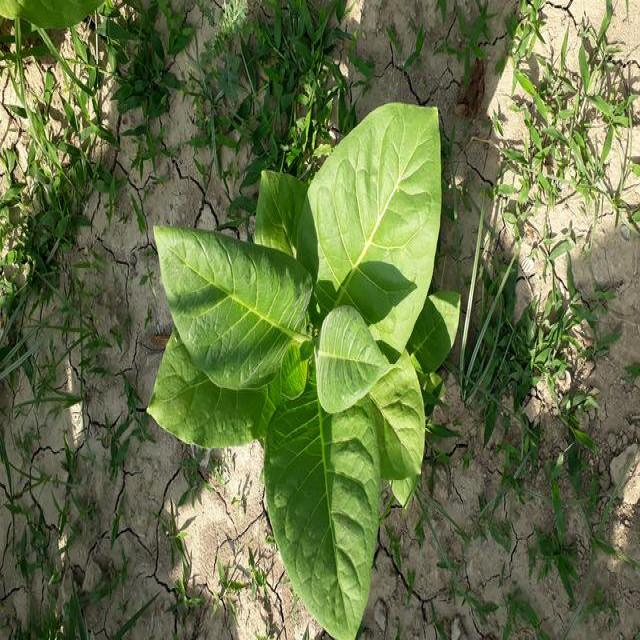crop: (166, 95, 467, 640)
